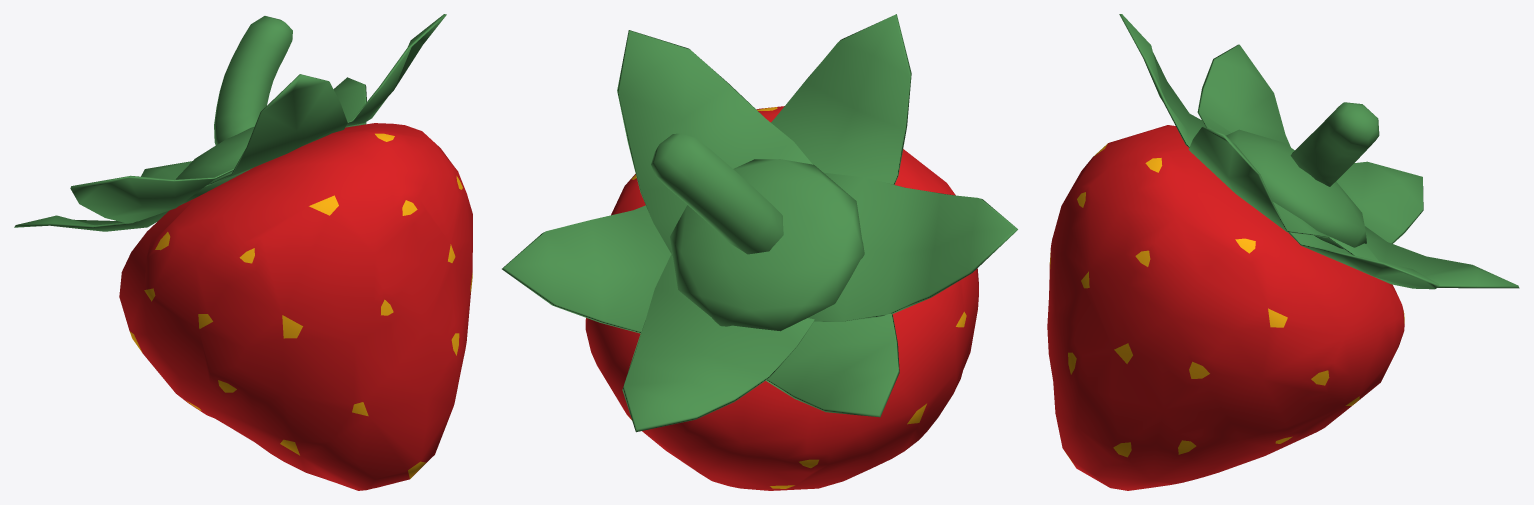
The model's file is Smooth_strawberry_1.fbx.
3 views of the same model, side by side, from view 1: azimuth 30°, elevation 25°; view 2: azimuth 150°, elevation 25°; view 3: azimuth 270°, elevation 25° (orthographic). The views are drawn at different scales.
Parts seen in each view (by area): view 1: Smooth_strawberry_0; view 2: Smooth_strawberry_0; view 3: Smooth_strawberry_0.
Part boxes in pixels (box(x1,y1,x2,y2)): Smooth_strawberry_0: box(14, 14, 472, 490); Smooth_strawberry_0: box(502, 14, 1017, 490); Smooth_strawberry_0: box(1047, 14, 1519, 490).
Size of the model in its own units: 129 by 140 by 138.
